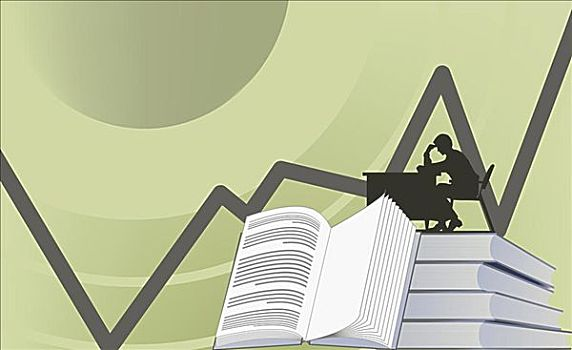book: (206, 193, 417, 349), (419, 227, 558, 277), (399, 312, 572, 348)
